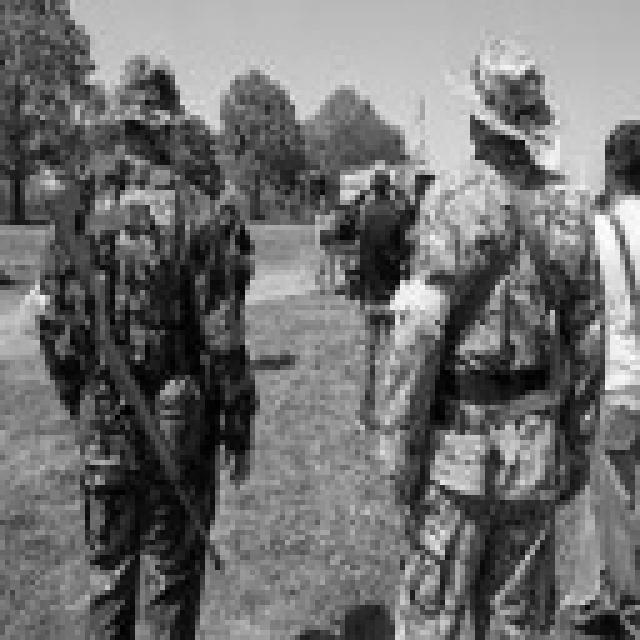Rifle: (0, 154, 270, 580)
